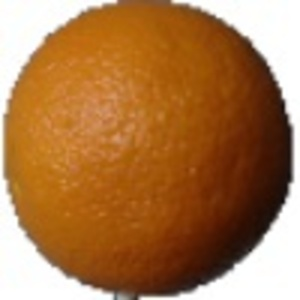laranja: (5, 3, 295, 294)
